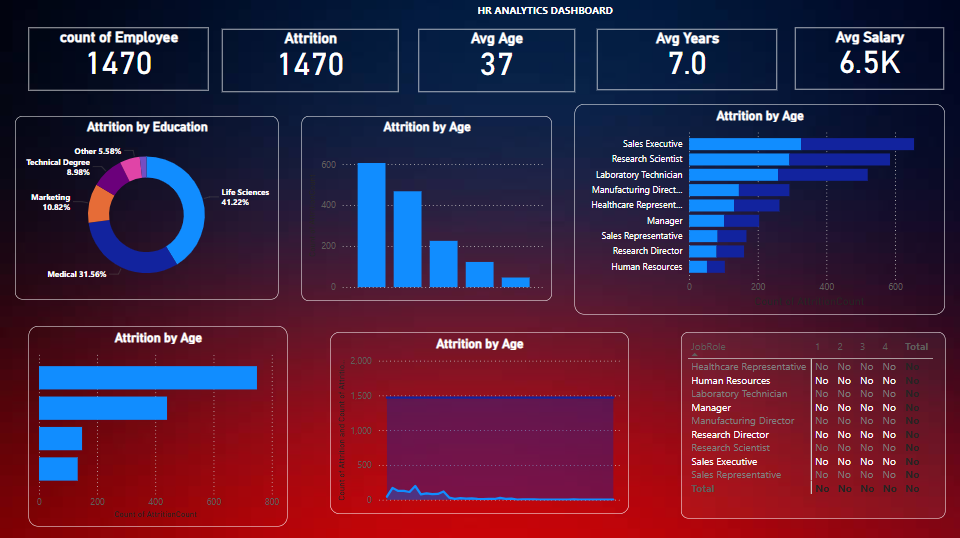

What the dashboard file says about the page in this screenshot:
{"tool":"powerbi","page":{"name":"Page 1","canvas":[1280,720],"ordinal":0},"visuals":[{"type":"card","title":"count of Employee","fields":{"Values":["Count(HR_Analytics.EmpID)"]},"box":[38.2,38.2,240.2,84.3],"z":0},{"type":"card","title":"Attrition","fields":{"Values":["CountNonNull(HR_Analytics.AttritionCount)"]},"box":[295.9,39.8,235.4,84.3],"z":1},{"type":"card","title":"Avg Age","fields":{"Values":["Avg(HR_Analytics.Age)"]},"box":[558.3,39.8,208.4,84.3],"z":2},{"type":"card","title":"Avg Salary ","fields":{"Values":["Avg(HR_Analytics.MonthlyIncome)"]},"box":[1060.9,38.2,198.8,82.7],"z":3},{"type":"card","title":"Avg Years","fields":{"Values":["Avg(HR_Analytics.YearsAtCompany)"]},"box":[795.3,39.8,240.2,81.1],"z":4},{"type":"donutChart","title":"Attrition by Education","fields":{"Category":["HR_Analytics.EducationField"],"Y":["CountNonNull(HR_Analytics.AttritionCount)"]},"box":[20.7,155.9,351.5,245],"z":5},{"type":"columnChart","title":"Attrition by Age","fields":{"Category":["HR_Analytics.AgeGroup"],"Y":["CountNonNull(HR_Analytics.AttritionCount)"]},"box":[402.4,155.9,334,246.5],"z":6},{"type":"pivotTable","fields":{"Rows":["HR_Analytics.JobRole"],"Columns":["HR_Analytics.JobSatisfaction"],"Values":["Min(HR_Analytics.Attrition)"]},"box":[908.2,444.2,352.5,249],"z":7},{"type":"barChart","title":"Attrition by Age","fields":{"Category":["HR_Analytics.SalarySlab"],"Y":["CountNonNull(HR_Analytics.AttritionCount)"]},"box":[38.2,435.8,345.2,267.2],"z":8},{"type":"barChart","title":"Attrition by Age","fields":{"Category":["HR_Analytics.JobRole"],"Y":["CountNonNull(HR_Analytics.AttritionCount)","CountNonNull(data.AttritionCount)"]},"box":[766.8,139.4,493.9,280.8],"z":9},{"type":"areaChart","title":"Attrition by Age","fields":{"Category":["data.YearsAtCompany"],"Y":["CountNonNull(data.Attrition)","CountNonNull(HR_Analytics.AttritionCount)"]},"box":[440.2,444.2,398.3,243],"z":10},{"type":"textbox","box":[469.2,0,513.8,38.2],"z":11}]}

Visuals, with their boxes in screenshot pixels (x1, y1, x2, y2), scaled from the page's 1280x720 canvas onto the 960x538 screenshot:
"count of Employee" card: bbox=(29, 29, 209, 92)
"Attrition" card: bbox=(222, 30, 398, 93)
"Avg Age" card: bbox=(419, 30, 575, 93)
"Avg Salary " card: bbox=(796, 29, 945, 90)
"Avg Years" card: bbox=(596, 30, 777, 90)
"Attrition by Education" donutChart: bbox=(16, 116, 279, 300)
"Attrition by Age" columnChart: bbox=(302, 116, 552, 301)
pivotTable - HR_Analytics.JobRole x HR_Analytics.JobSatisfaction: bbox=(681, 332, 946, 518)
"Attrition by Age" barChart: bbox=(29, 326, 288, 525)
"Attrition by Age" barChart: bbox=(575, 104, 946, 314)
"Attrition by Age" areaChart: bbox=(330, 332, 629, 513)
textbox: bbox=(352, 0, 737, 29)
